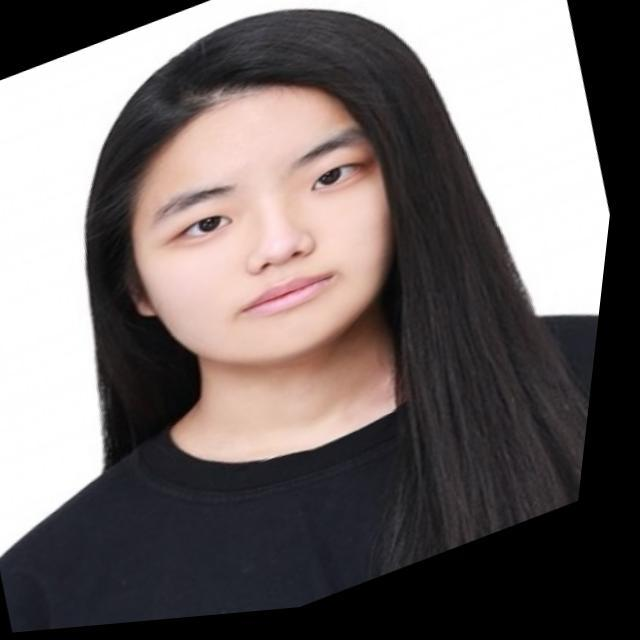Nonhelmet: (96, 4, 462, 370)
